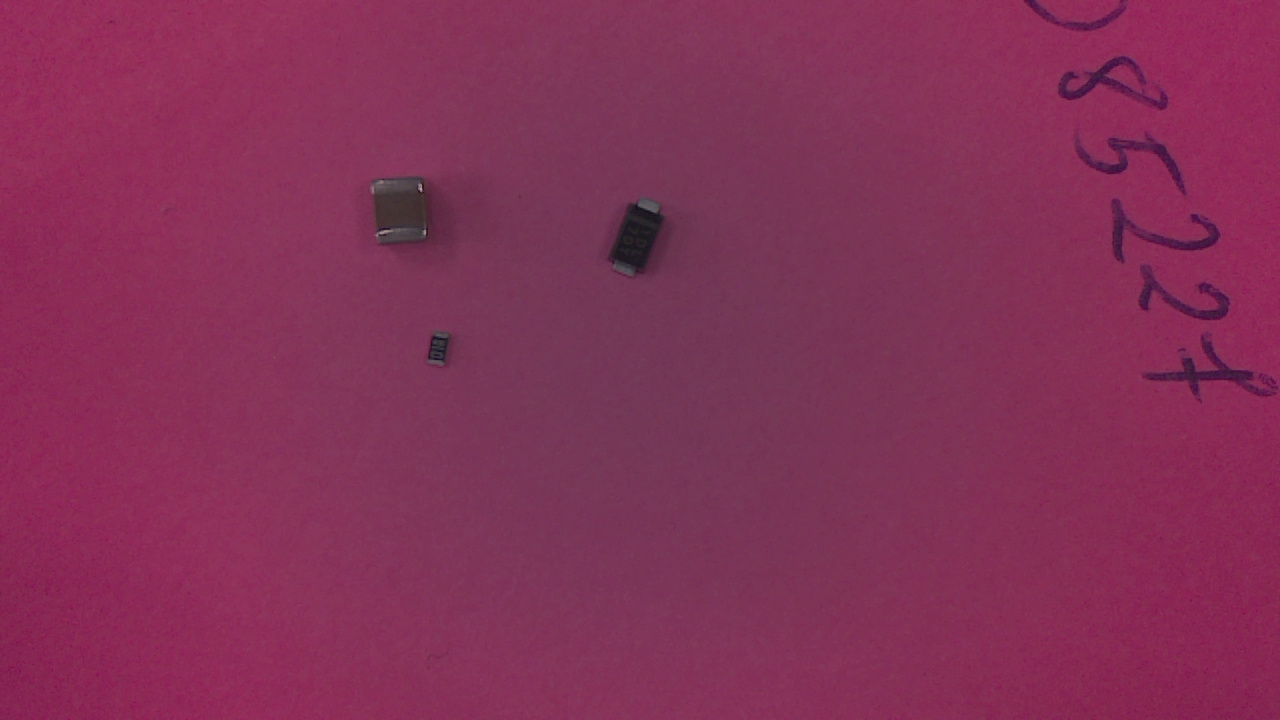Condensator: (373, 180, 442, 253)
Diode: (610, 198, 672, 282)
Resistor: (427, 336, 460, 374)
